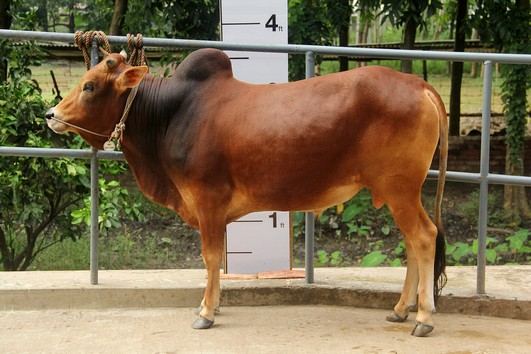cow: (43, 45, 455, 343)
